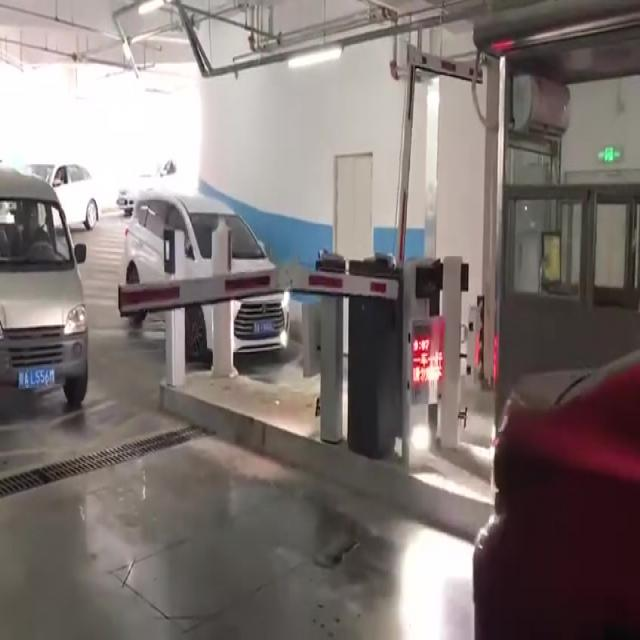CarIn: (421, 280, 640, 640), (1, 161, 88, 435), (110, 184, 280, 312), (1, 153, 100, 239), (103, 143, 188, 212)
GateClosed: (117, 213, 393, 423)
GateOpened: (370, 41, 496, 299)
